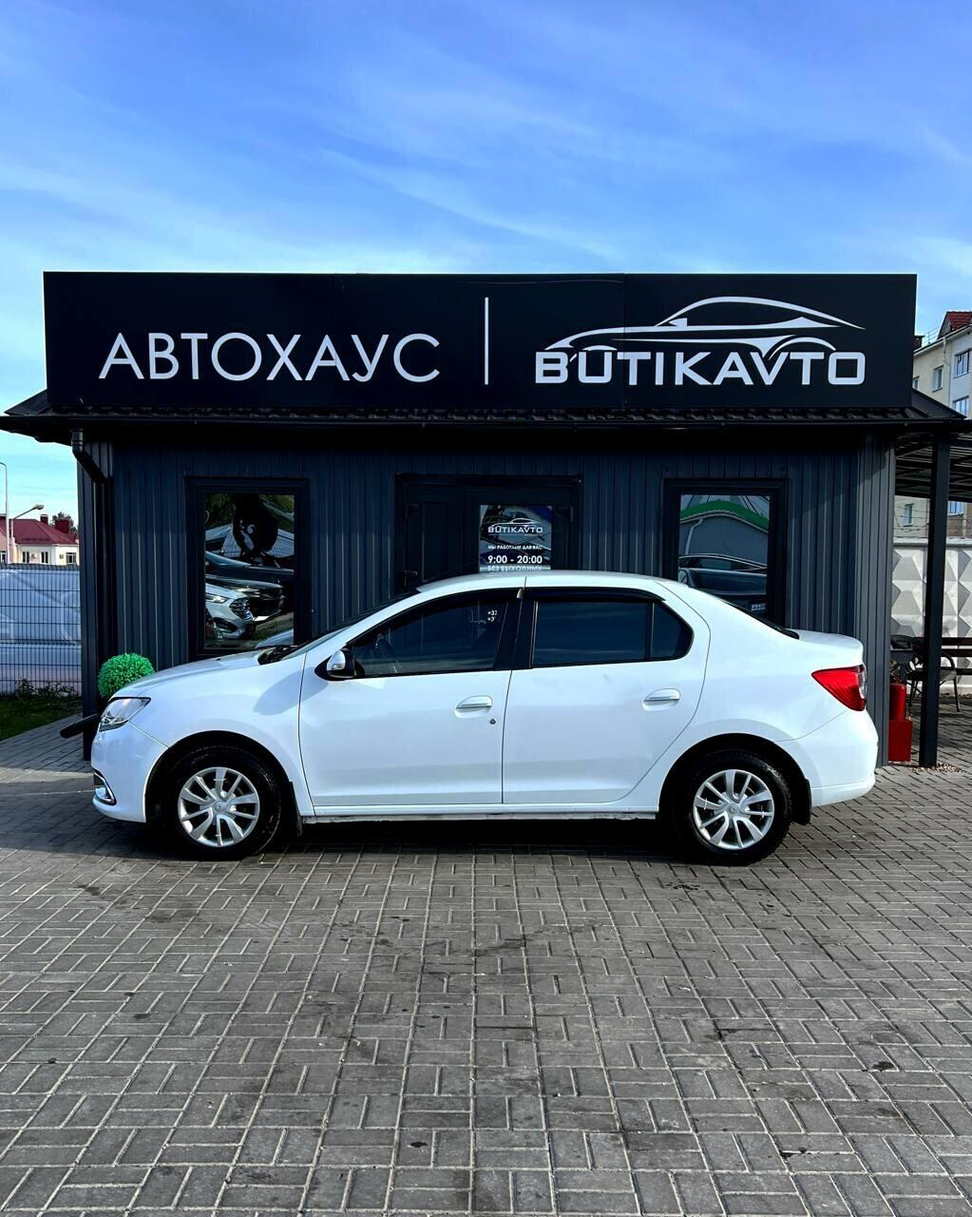Logan_2013-2018: (76, 570, 898, 878)
